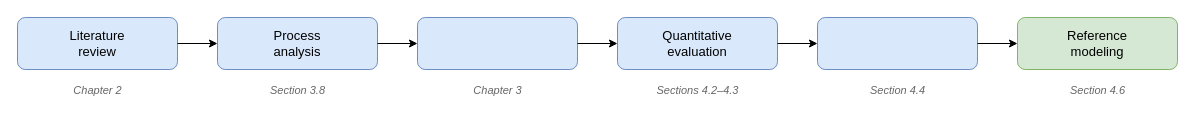
This 1195x115 diagram has some shape labels left out. The shapes that lost their labels are listed below. From the top down, each one's centre as x and y in pixels, then its label:
the point at 497,43: Prototype development
the point at 897,43: Qualitative evaluation
